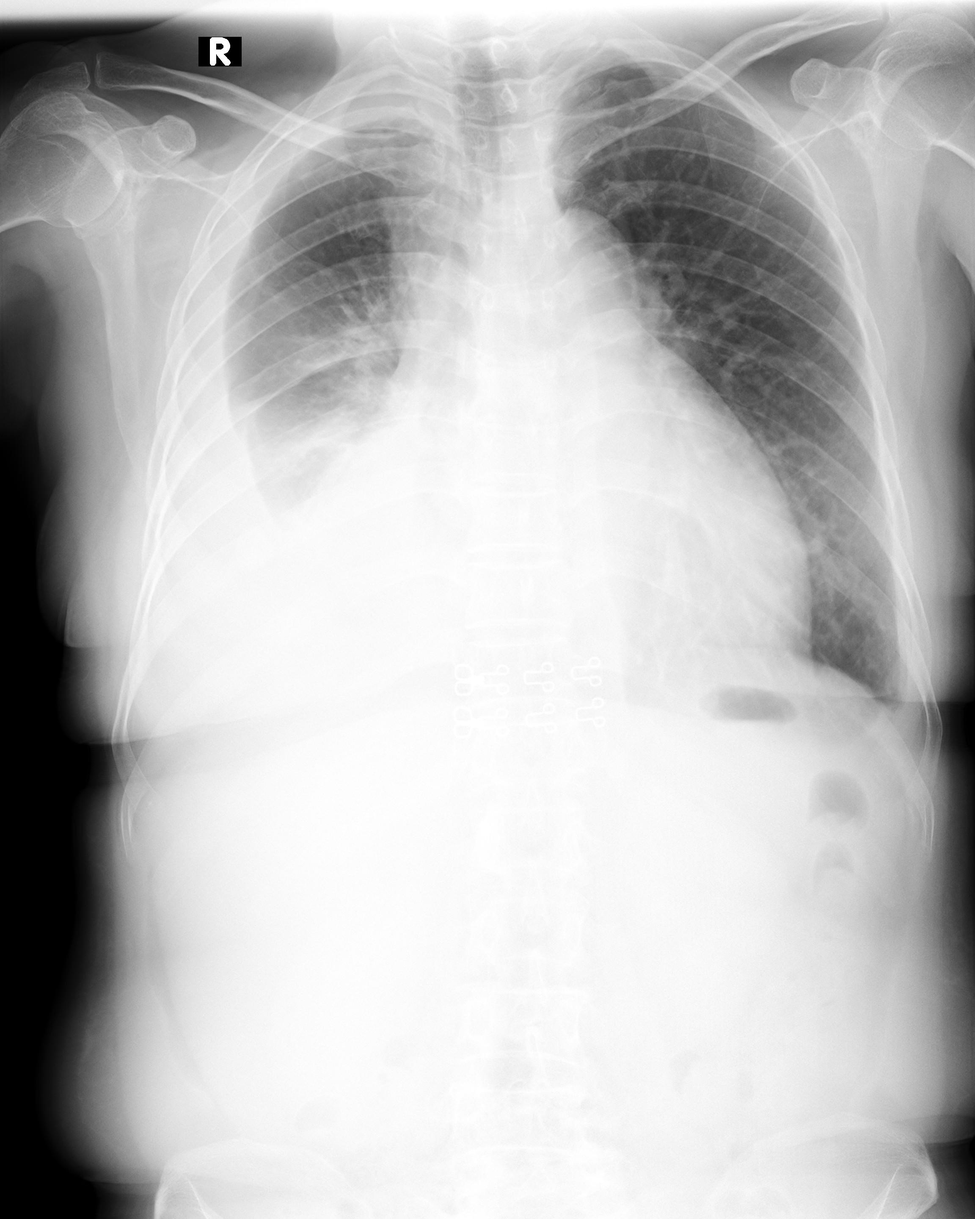Pleural thickening: (870, 656, 931, 765)
Pulmonary fibrosis: (807, 474, 882, 613)
